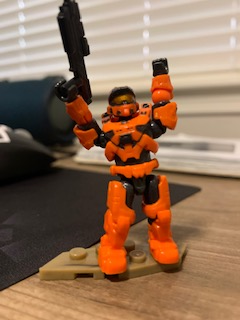rifle: (55, 1, 97, 107)
spartan: (55, 58, 182, 277)
up: (51, 56, 181, 163)
